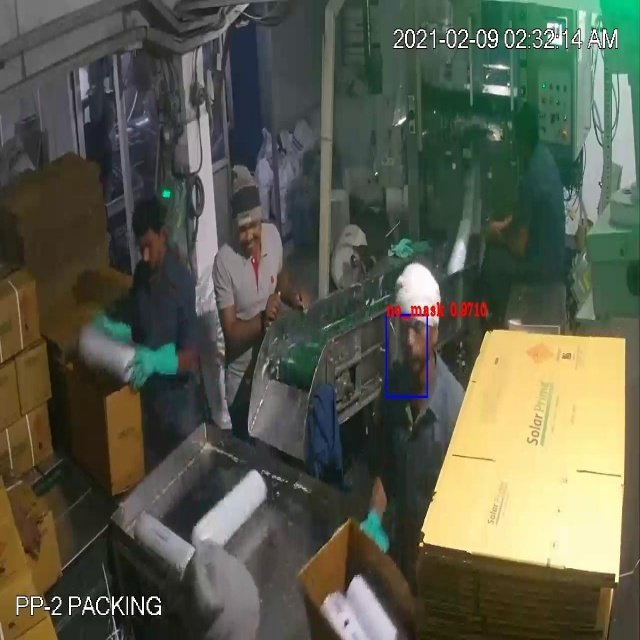Guantes: (126, 333, 186, 402)
Sin_guantes: (210, 287, 287, 365), (477, 202, 534, 261), (270, 258, 315, 328)
